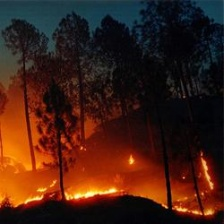fire: (15, 156, 224, 221)
